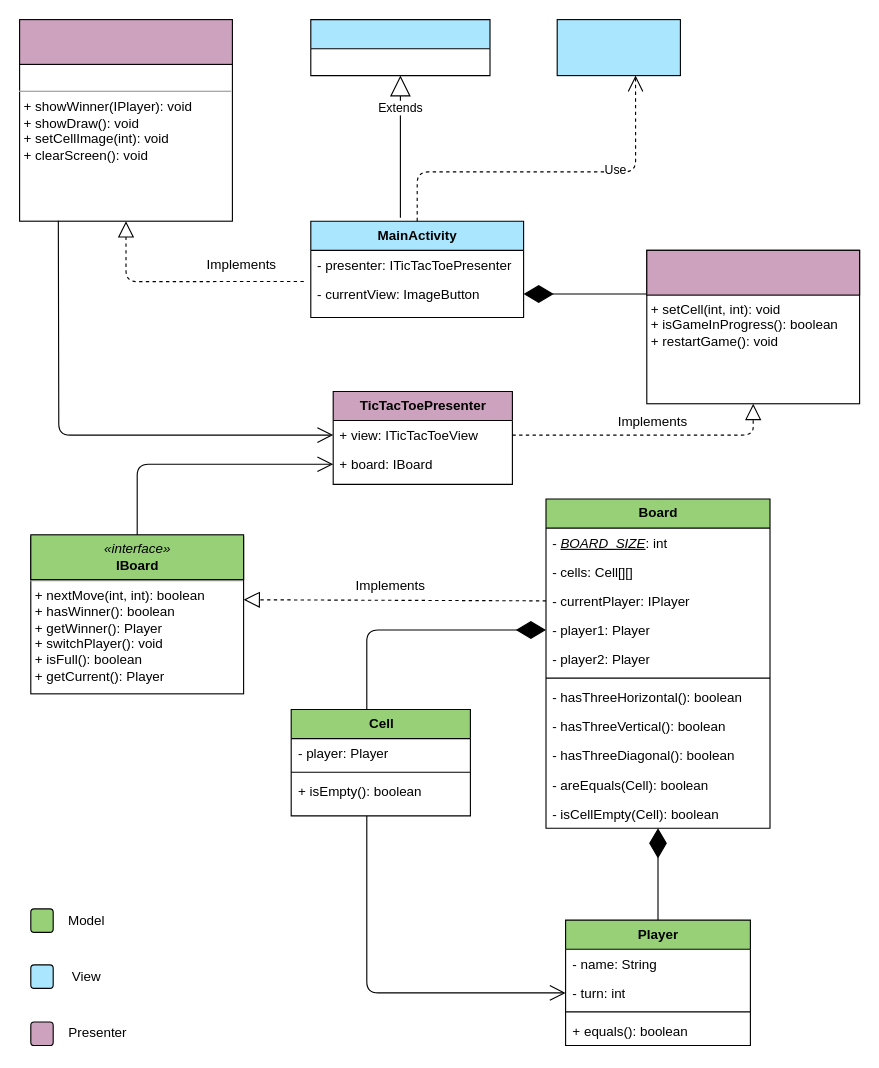
Image size: 879x1068. Some labels were removed from this diagram. Here are the shapes that lost their labels. From the top down, the centre of each, then its label:
At pixel 125 41: "«interface» ITicTacToeView".
At pixel 400 47: "AppCompatActivity".
At pixel 618 47: "activity_main.xml".
At pixel 753 272: "«interface» ITicTacTowPresenter".
